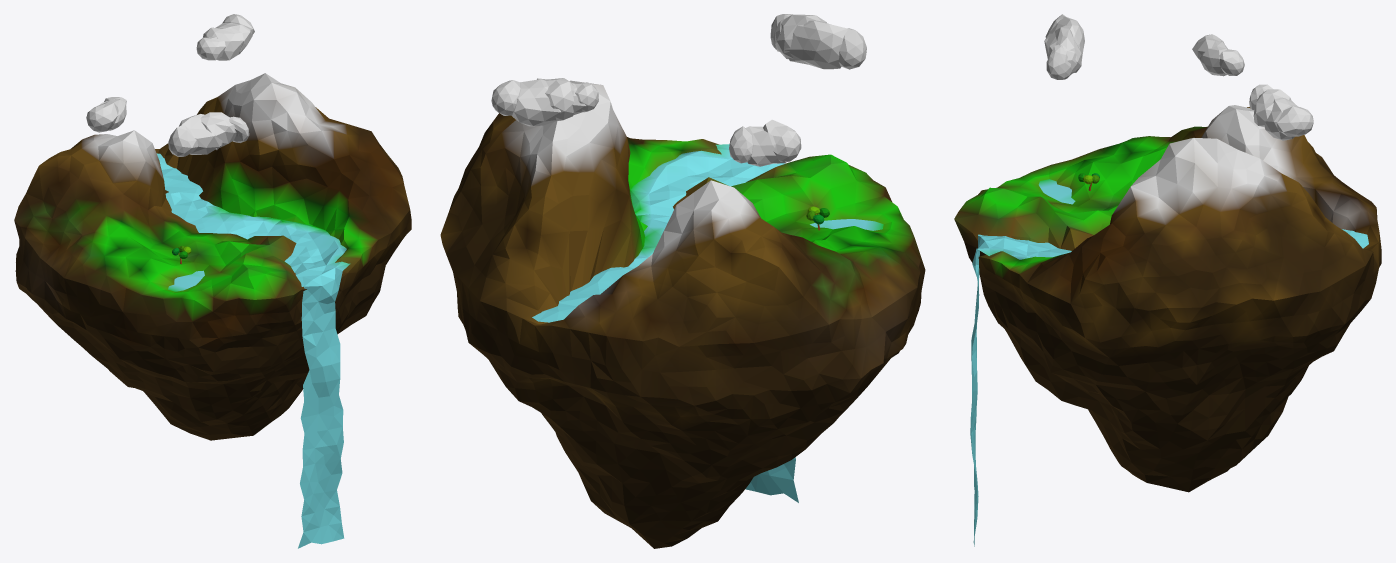
Rendered from baseModel.glb.
3 renders of one model, left to right at view 1: azimuth 30°, elevation 25°; view 2: azimuth 150°, elevation 25°; view 3: azimuth 270°, elevation 25°, orthographic. The views are drawn at different scales.
Visible parts, largest first — view 1: tree; view 2: tree; view 3: tree.
Boxes of the visible parts, box(x1,y1,x2,y2) form: tree: box(14, 14, 411, 548); tree: box(440, 14, 925, 548); tree: box(954, 14, 1381, 546).
Size of the model in its own units: 2.55 by 3.03 by 2.5.
